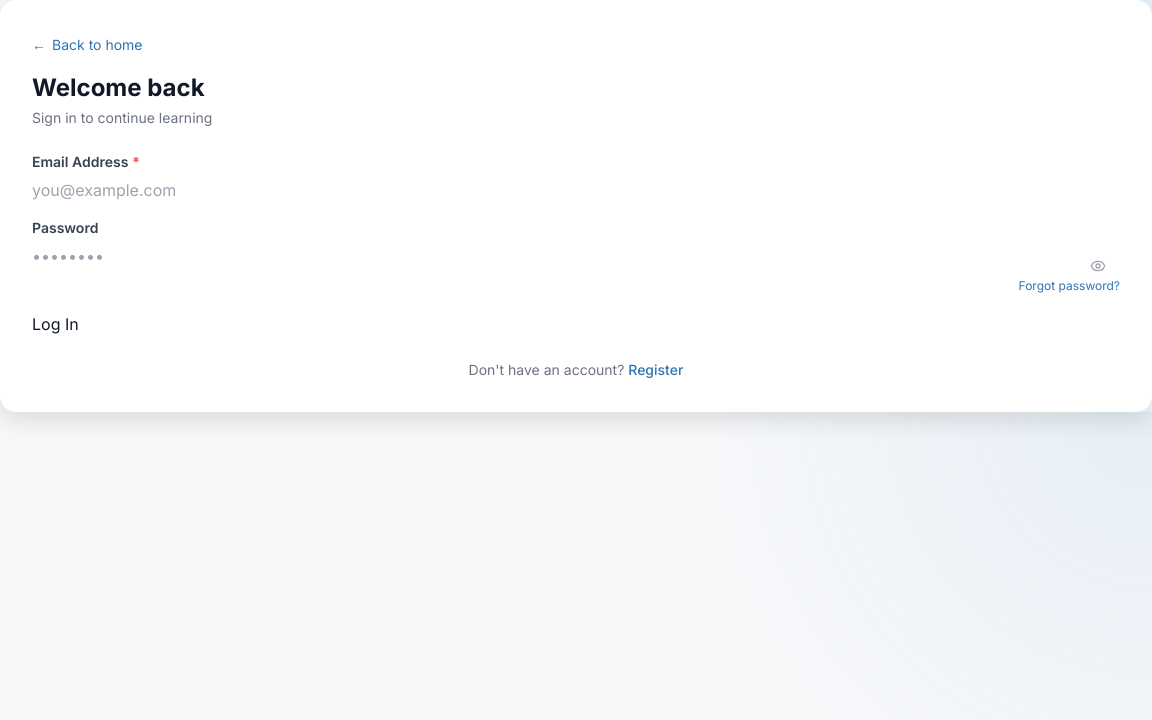
LoginPage › shows error alert on invalid credentials
Type "wrong@example.com" into the field labelled "Email Address*". click: (149, 190)
box: [32,178,266,202]
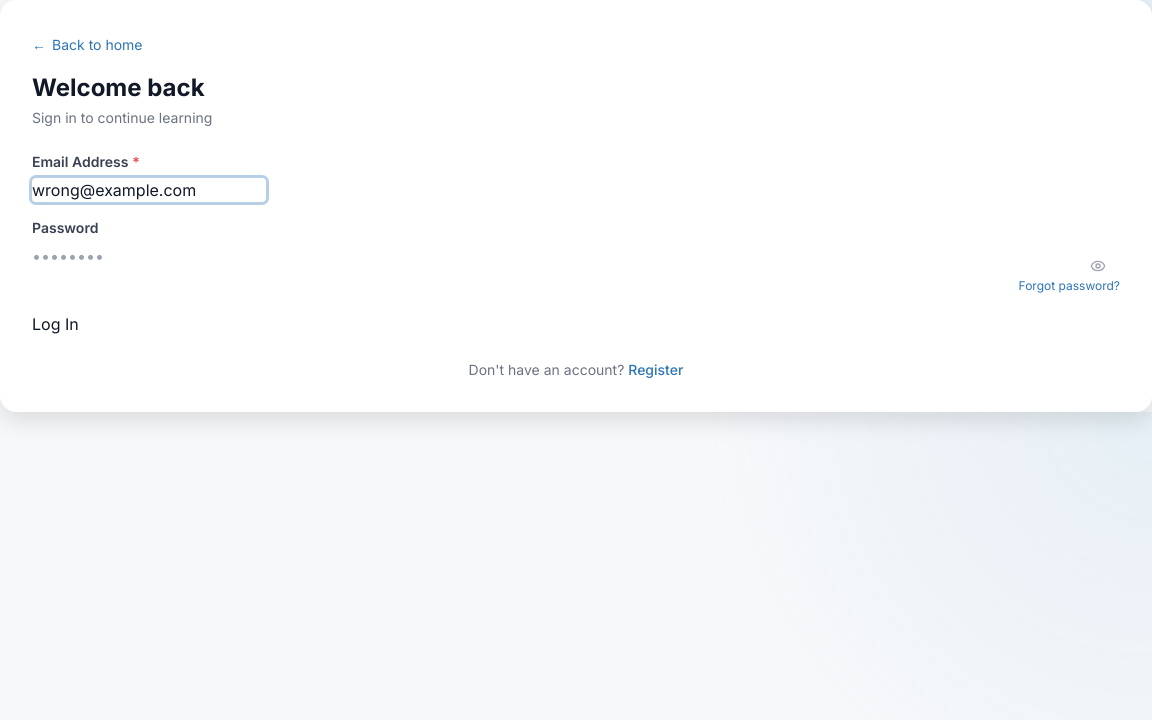
Type "wrongpassword" into the password field labelled "Password". click: (149, 256)
box: [32,244,266,268]
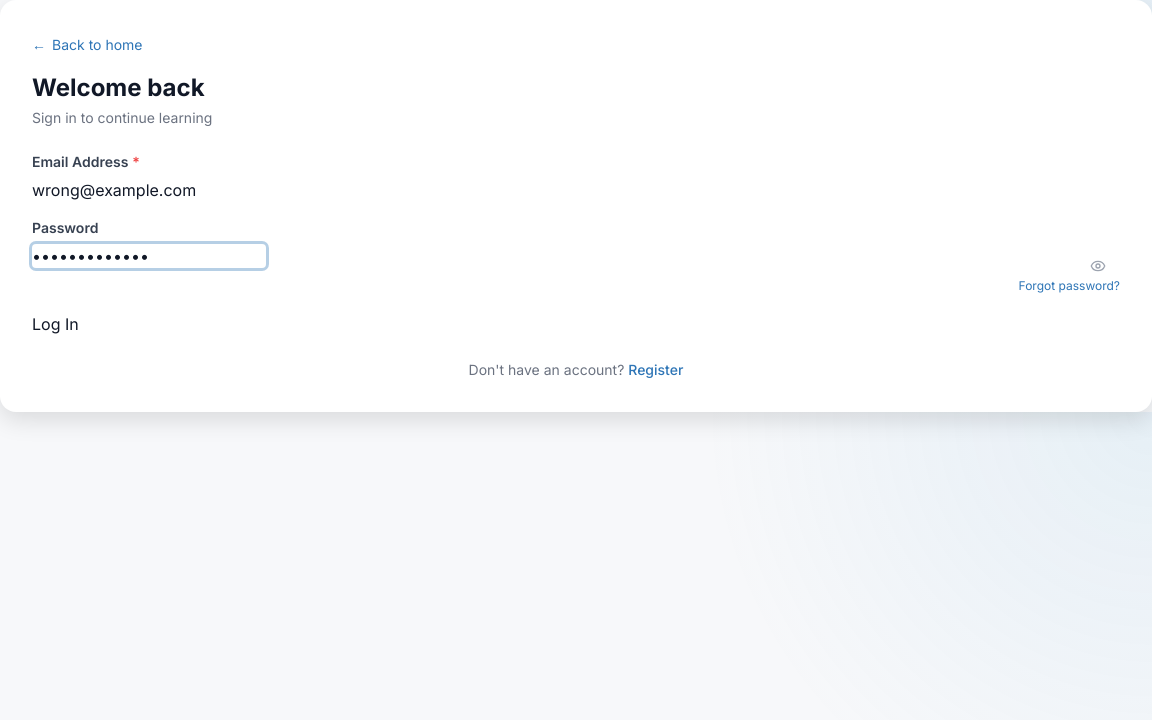
Click the button "Log In". click: click(55, 324)
box: [32,312,79,336]
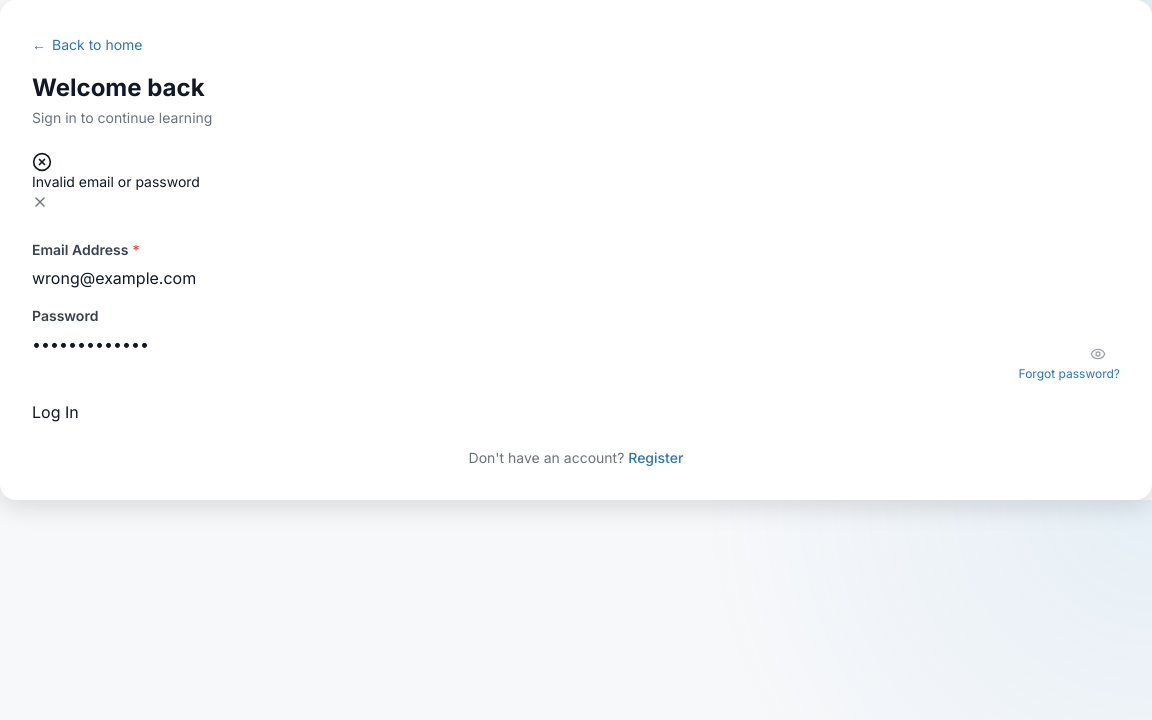
Now the message reads "Invalid email or password", box [32,173,200,190]
